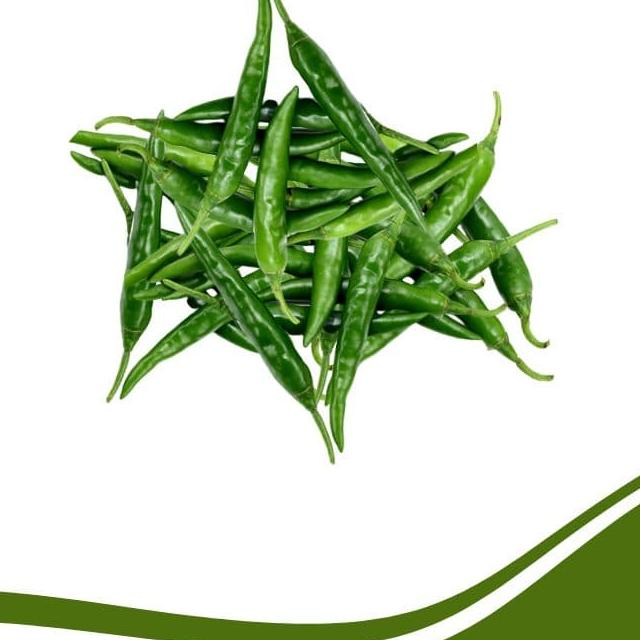chili_pepper: (274, 0, 425, 226), (192, 231, 335, 462), (191, 0, 272, 236), (327, 219, 400, 450), (254, 87, 298, 302), (427, 142, 495, 242)
